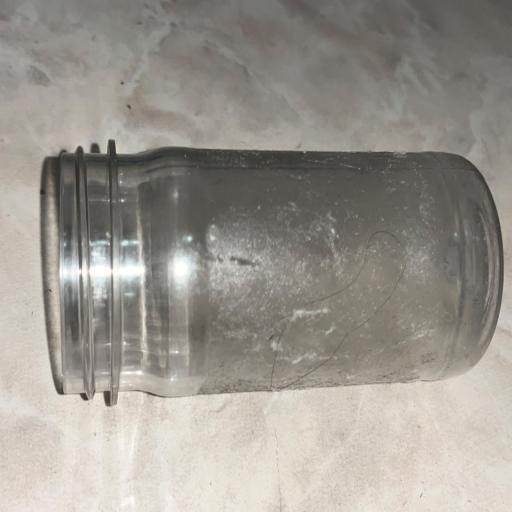PET: (23, 76, 512, 476)
